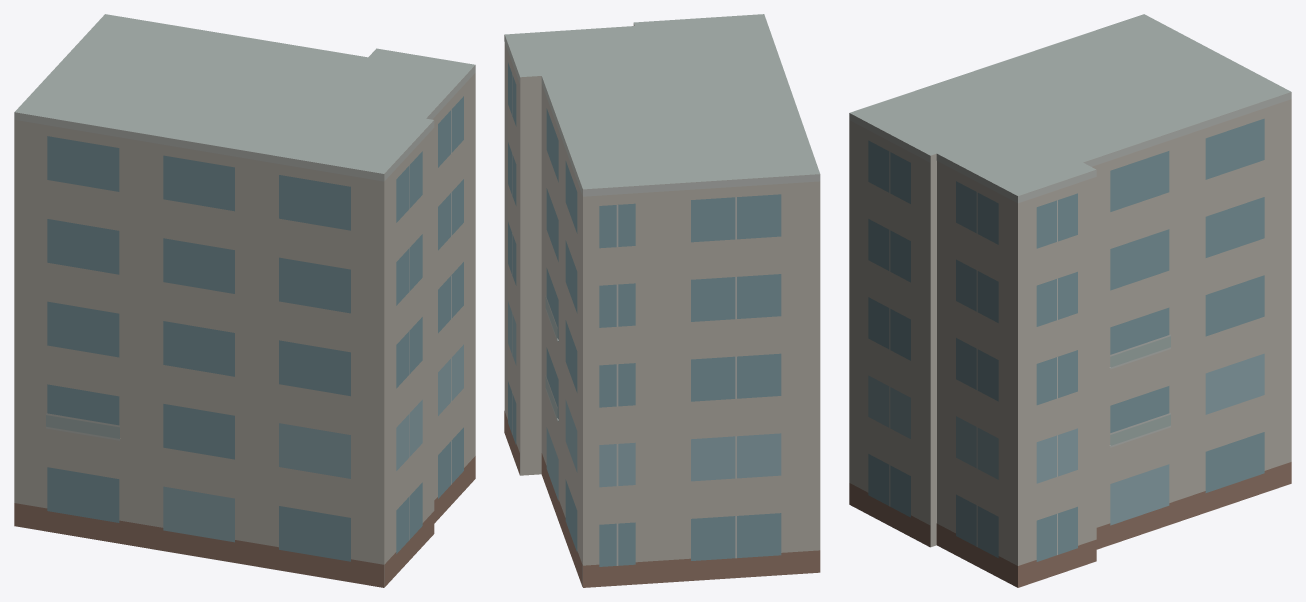
Rendered from survey-upis-32621723.glb.
The picture shows the model from 3 angles, left to right: view 1: azimuth 30°, elevation 25°; view 2: azimuth 150°, elevation 25°; view 3: azimuth 270°, elevation 25°; orthographic projection. The views are drawn at different scales.
Parts seen in each view (by area): view 1: survey-upis-32621723.tmp; view 2: survey-upis-32621723.tmp; view 3: survey-upis-32621723.tmp.
Boxes of the visible parts, <box> form: survey-upis-32621723.tmp: <box>14,14,475,587</box>; survey-upis-32621723.tmp: <box>504,14,820,587</box>; survey-upis-32621723.tmp: <box>849,14,1291,587</box>.
Bounding box in the file's own units: 13.28 × 13.3 × 13.62.
